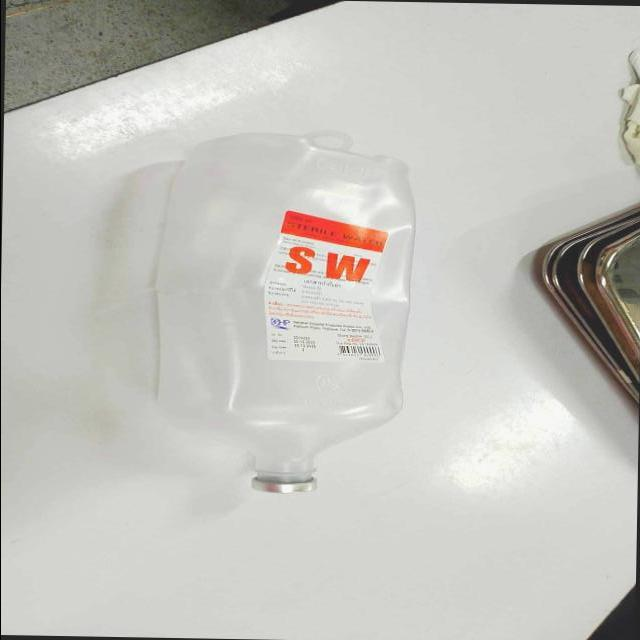General: (261, 208, 390, 364)
Infectious: (149, 130, 418, 494)
